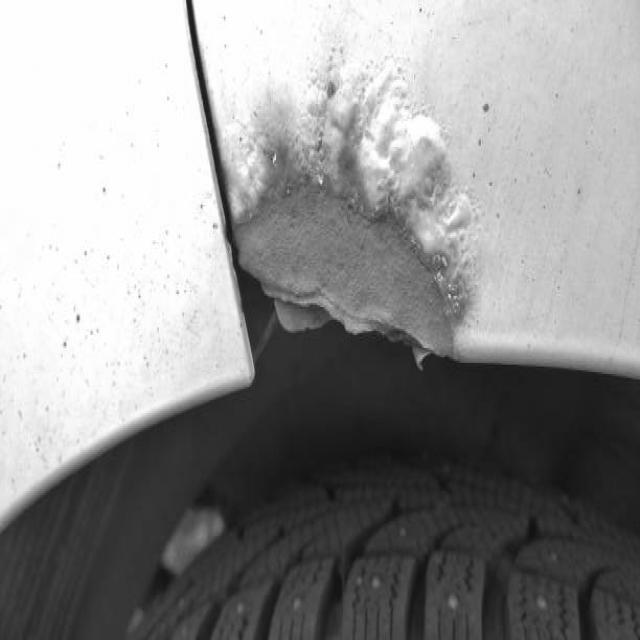Bad Weld: (228, 98, 461, 356)
